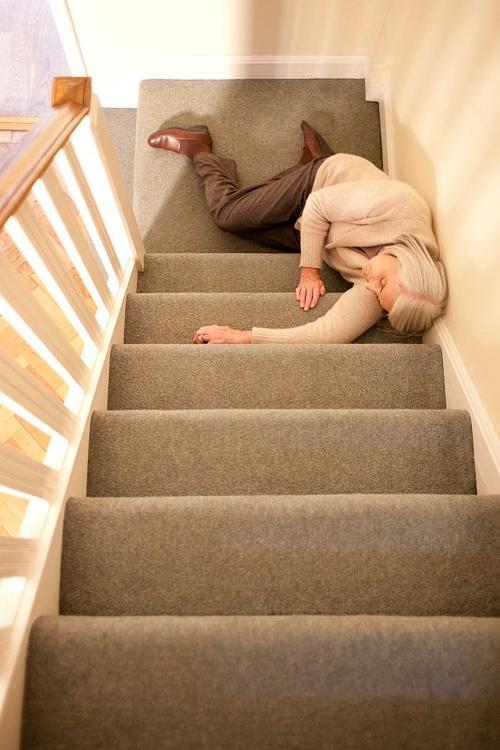down: (133, 109, 465, 379)
